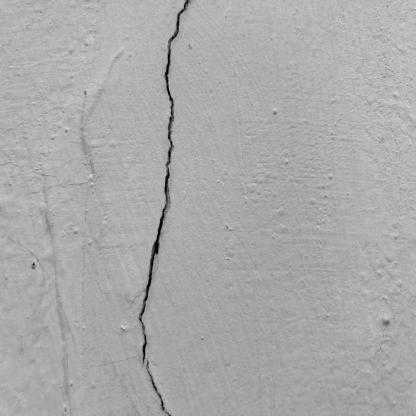crack: (139, 0, 190, 415)
